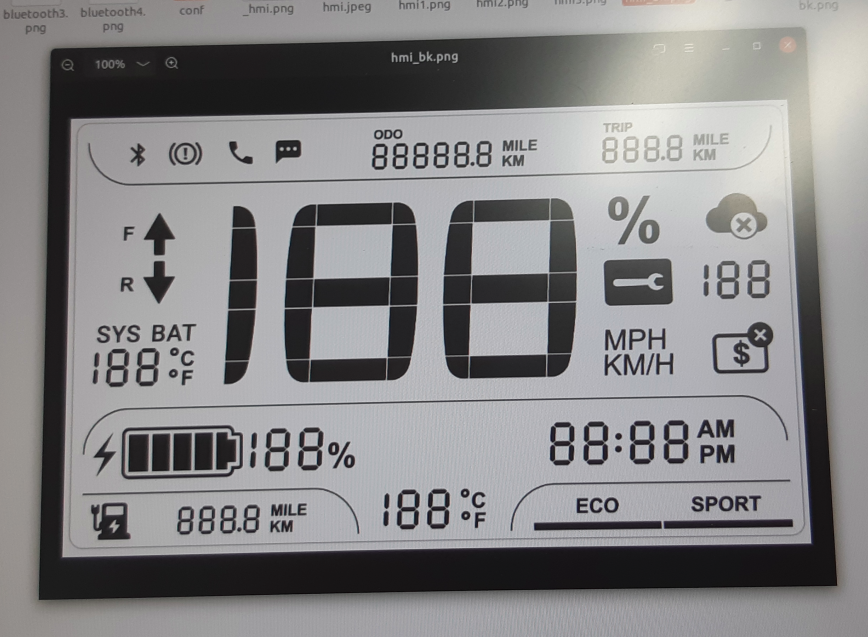bluetooth_on: (126, 141, 152, 170)
braking_on: (165, 139, 206, 170)
calling_on: (225, 137, 258, 167)
connection_lost: (702, 189, 773, 245)
error_code: (597, 255, 679, 311)
low_battery: (88, 499, 135, 543)
sms_on: (272, 137, 303, 168)
vin_id: (710, 320, 778, 379)
